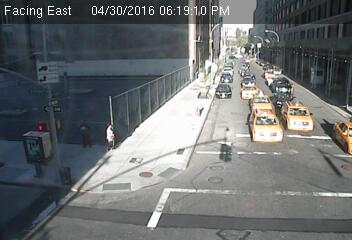neg: (212, 122, 244, 164), (258, 124, 290, 166), (59, 48, 87, 85), (236, 31, 263, 66), (293, 147, 319, 182), (299, 63, 323, 96), (241, 80, 264, 111), (187, 110, 209, 140), (107, 186, 129, 215), (157, 61, 177, 88), (134, 131, 154, 157), (192, 60, 211, 85), (38, 127, 57, 151), (162, 114, 180, 137), (190, 191, 207, 214), (25, 50, 42, 73), (256, 183, 273, 205), (57, 164, 73, 184), (293, 32, 308, 52), (109, 61, 123, 80), (147, 171, 161, 190)
pos: (100, 118, 125, 151), (73, 121, 94, 149)
